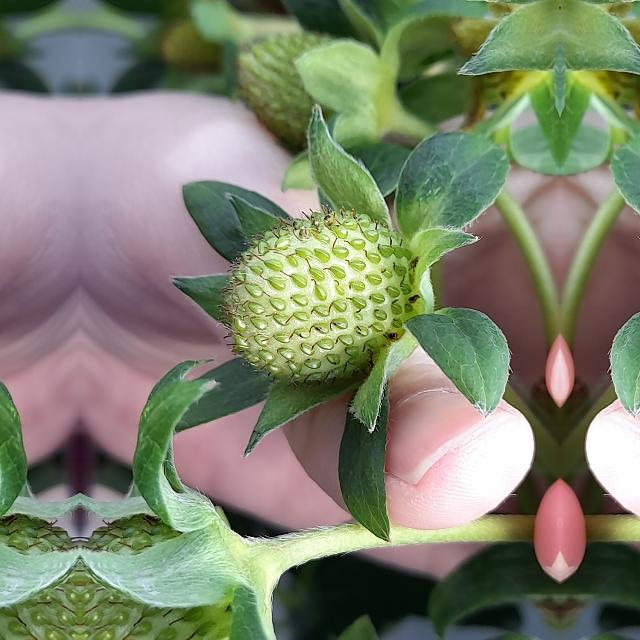Health_25: (215, 204, 417, 390), (80, 497, 254, 639), (0, 497, 80, 639)
